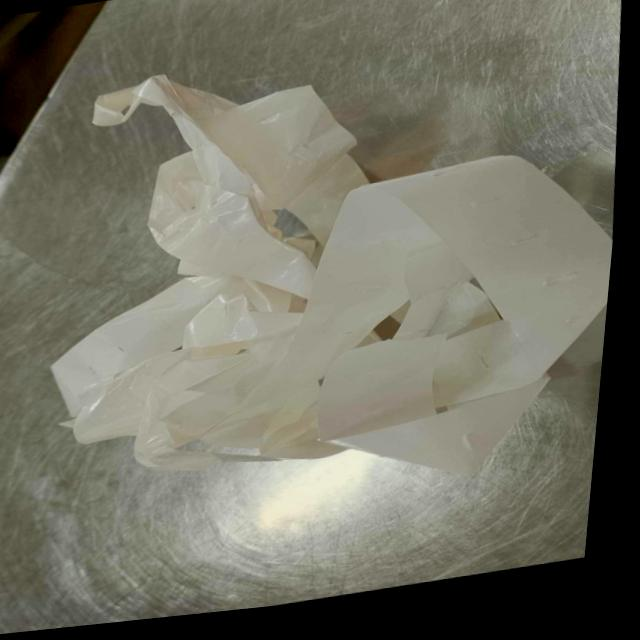General: (47, 72, 611, 477)
